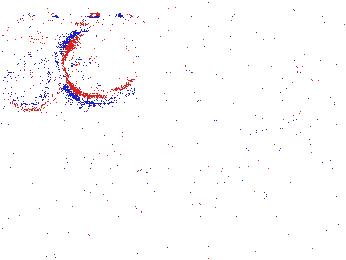moon jellyfish: (202, 63, 308, 131), (58, 29, 143, 105), (1, 31, 65, 112), (275, 47, 333, 123), (183, 49, 269, 82)
